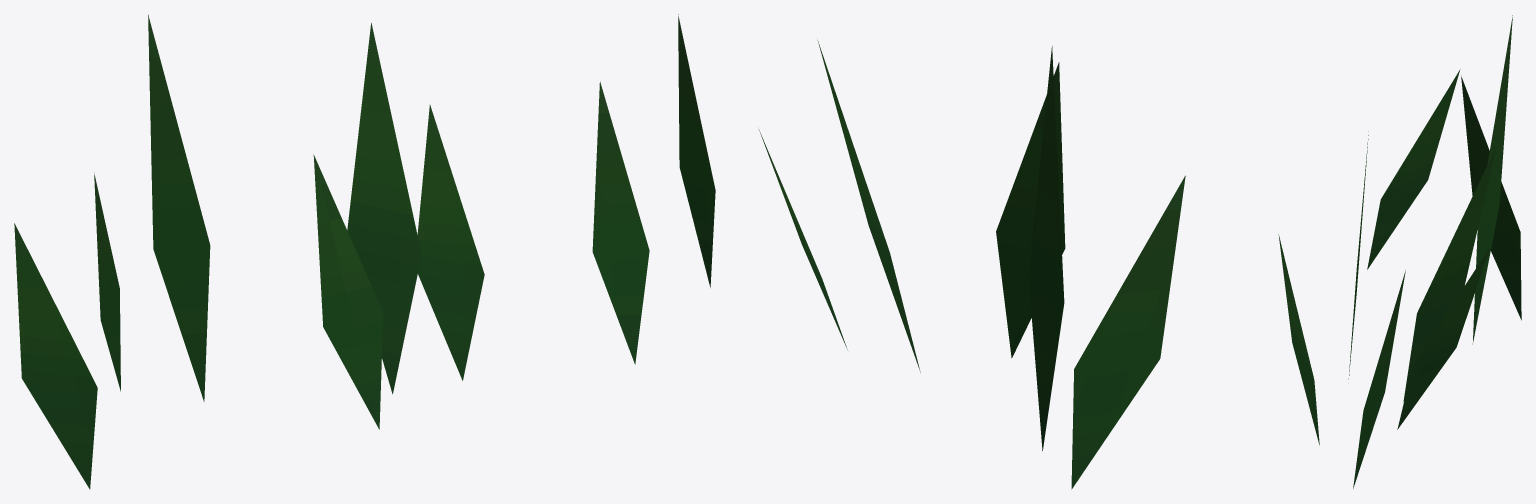
The model's file is plants_me_main_grass42.gltf.
The picture shows the model from 3 angles, left to right: view 1: azimuth 30°, elevation 25°; view 2: azimuth 150°, elevation 25°; view 3: azimuth 270°, elevation 25°; orthographic projection. The views are drawn at different scales.
Visible parts, largest first — view 1: um_plants_me_main_grass42_model_plants_me_main_grass42_model; view 2: um_plants_me_main_grass42_model_plants_me_main_grass42_model; view 3: um_plants_me_main_grass42_model_plants_me_main_grass42_model.
Part boxes in pixels (x1,y1,x2,y2): um_plants_me_main_grass42_model_plants_me_main_grass42_model: (14,14,649,489); um_plants_me_main_grass42_model_plants_me_main_grass42_model: (678,14,1319,489); um_plants_me_main_grass42_model_plants_me_main_grass42_model: (1348,15,1521,488).
Size of the model in its own units: 0.5503 by 0.3383 by 0.1672.
1 material, 1 textured.
